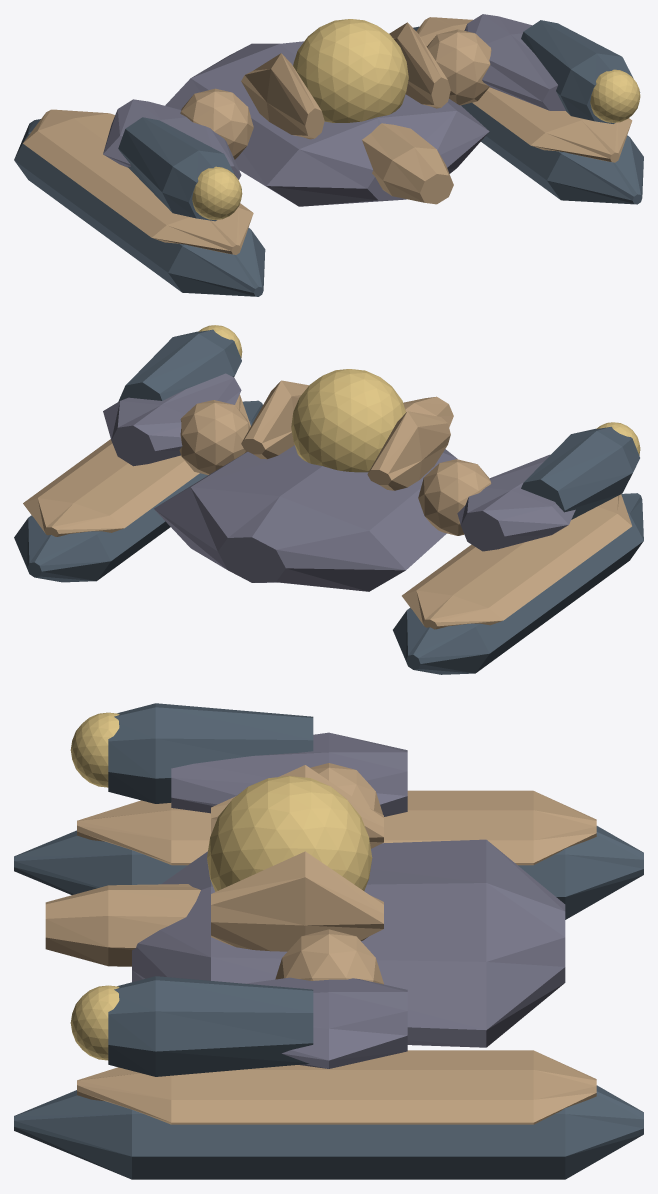
The model's file is siege_manta.glb.
3 views of the same model, one above another, from view 1: azimuth 30°, elevation 25°; view 2: azimuth 150°, elevation 25°; view 3: azimuth 270°, elevation 25° (orthographic). The views are drawn at different scales.
Visible parts, largest first — view 1: armored_chassis, pontoon_armor_-1, pontoon_-1, core, pontoon_1, pontoon_armor_1, emitter_-1, emitter_1, central_emitter, swept_arm_1, core_guard_-1.3, joint_1 (+5 smaller); view 2: armored_chassis, pontoon_armor_-1, pontoon_-1, pontoon_armor_1, core, pontoon_1, emitter_-1, swept_arm_-1, swept_arm_1, emitter_1, core_guard_-1.3, joint_1 (+3 smaller); view 3: armored_chassis, pontoon_1, pontoon_armor_1, emitter_1, pontoon_armor_-1, core, emitter_-1, pontoon_-1, core_guard_1.3, swept_arm_-1, central_emitter, swept_arm_1 (+5 smaller).
Boxes of the visible parts, x1,y1,x2,y2 form: armored_chassis: [165, 41, 489, 206]; pontoon_armor_-1: [23, 109, 253, 254]; pontoon_-1: [14, 119, 265, 296]; core: [293, 19, 408, 122]; pontoon_1: [413, 26, 643, 204]; pontoon_armor_1: [416, 17, 632, 162]; emitter_-1: [118, 117, 241, 221]; emitter_1: [521, 20, 640, 123]; central_emitter: [362, 123, 453, 204]; swept_arm_1: [464, 14, 565, 110]; core_guard_-1.3: [241, 53, 324, 139]; joint_1: [427, 29, 491, 105]; armored_chassis: [154, 445, 457, 591]; pontoon_armor_-1: [402, 494, 631, 629]; pontoon_-1: [393, 493, 643, 674]; pontoon_armor_1: [23, 394, 250, 536]; core: [291, 369, 405, 472]; pontoon_1: [14, 400, 262, 582]; emitter_-1: [521, 426, 639, 519]; swept_arm_-1: [457, 454, 575, 551]; swept_arm_1: [103, 373, 241, 466]; emitter_1: [118, 329, 241, 401]; core_guard_-1.3: [367, 411, 450, 490]; joint_1: [179, 400, 250, 475]; armored_chassis: [132, 839, 565, 1047]; pontoon_1: [14, 1085, 643, 1179]; pontoon_armor_1: [77, 1050, 596, 1124]; emitter_1: [108, 976, 313, 1076]; pontoon_armor_-1: [77, 790, 596, 865]; core: [207, 776, 372, 891]; emitter_-1: [108, 703, 313, 803]; pontoon_-1: [14, 826, 643, 919]; core_guard_1.3: [211, 851, 383, 951]; swept_arm_-1: [171, 732, 407, 816]; central_emitter: [45, 884, 200, 966]; swept_arm_1: [246, 977, 407, 1068].
Bounding box in the file's own units: 9.9 × 3.6 × 8.
